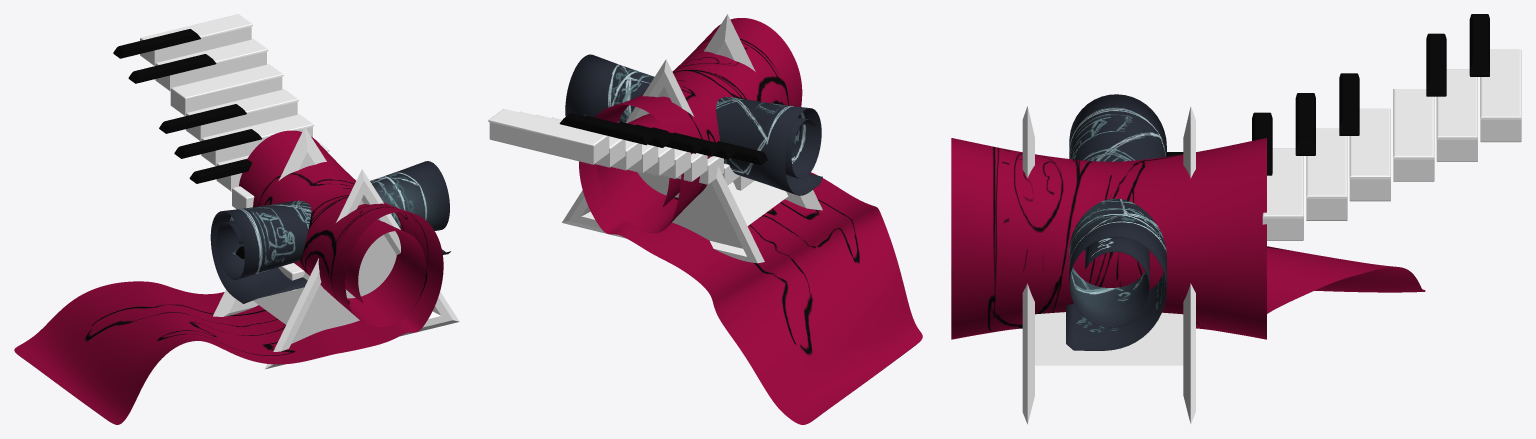
Rendered from level3.fbx.
3 renders of one model, left to right at view 1: azimuth 30°, elevation 25°; view 2: azimuth 150°, elevation 25°; view 3: azimuth 270°, elevation 25°, orthographic. The views are drawn at different scales.
Parts seen in each view (by area): view 1: playerconcept_cylinderplatform, pianostairs, map_cylinderplatform, triangularplatform; view 2: playerconcept_cylinderplatform, map_cylinderplatform, pianostairs, triangularplatform; view 3: playerconcept_cylinderplatform, pianostairs, map_cylinderplatform, triangularplatform.
Part boxes in pixels (x1=…): playerconcept_cylinderplatform: x1=14, y1=130, x2=443, y2=424; pianostairs: x1=113, y1=14, x2=329, y2=291; map_cylinderplatform: x1=210, y1=161, x2=450, y2=303; triangularplatform: x1=213, y1=127, x2=459, y2=369; playerconcept_cylinderplatform: x1=579, y1=18, x2=922, y2=424; map_cylinderplatform: x1=565, y1=54, x2=822, y2=195; pianostairs: x1=488, y1=109, x2=767, y2=190; triangularplatform: x1=562, y1=14, x2=822, y2=263; playerconcept_cylinderplatform: x1=951, y1=138, x2=1425, y2=339; pianostairs: x1=1166, y1=14, x2=1521, y2=240; map_cylinderplatform: x1=1066, y1=94, x2=1166, y2=350; triangularplatform: x1=1022, y1=106, x2=1195, y2=424.
Size of the model in its own units: 2395 by 1851 by 2620.
